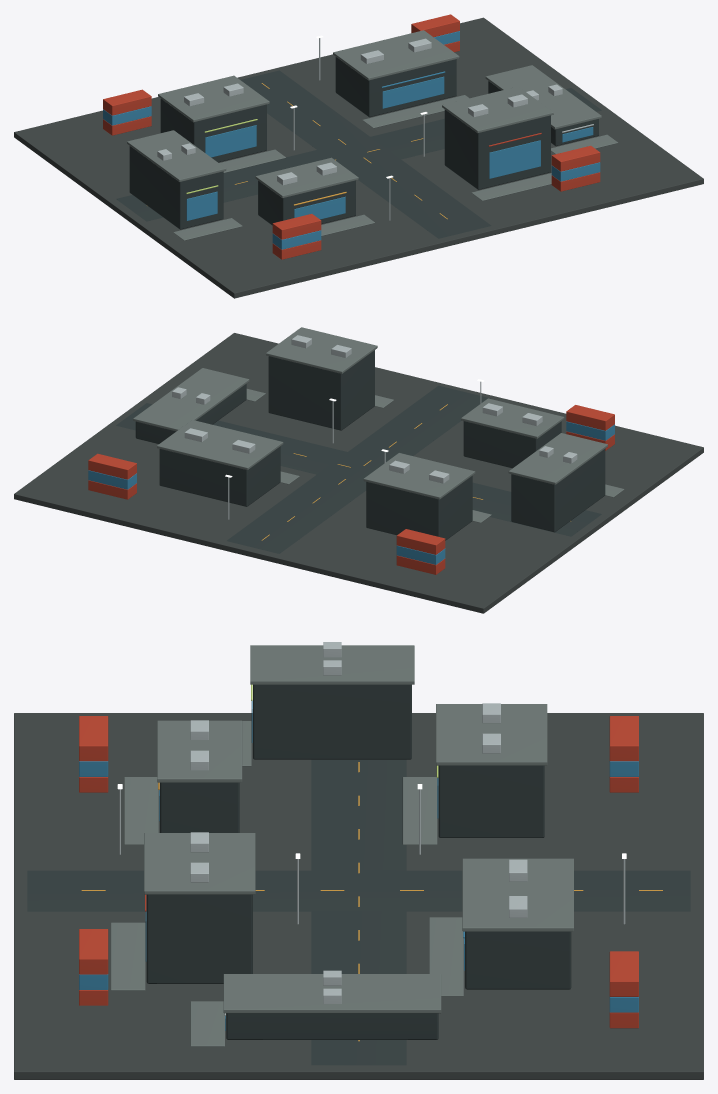
Rendered from district.glb.
3 renders of one model, top to bottom at view 1: azimuth 30°, elevation 25°; view 2: azimuth 150°, elevation 25°; view 3: azimuth 270°, elevation 25°, orthographic. The views are drawn at different scales.
Parts seen in each view (by area): view 1: District ground, North south arterial, Building dyno, East west arterial, Building showroom, Building parts, Roof parts, Building workshop, Roof track, Roof workshop, Roof dyno, Roof showroom (+24 smaller); view 2: District ground, North south arterial, Building dyno, Building workshop, Building showroom, Building parts, East west arterial, Roof track, Roof parts, Building paint, Roof workshop, Roof dyno (+11 smaller); view 3: District ground, East west arterial, North south arterial, Building showroom, Building dyno, Roof track, Building workshop, Roof parts, Building parts, Roof dyno, Roof workshop, Roof showroom (+12 smaller).
Part boxes in pixels (bbox=[...]): District ground: bbox=[14, 17, 703, 298]; North south arterial: bbox=[240, 70, 491, 238]; Building dyno: bbox=[444, 109, 550, 189]; East west arterial: bbox=[116, 88, 601, 221]; Building showroom: bbox=[129, 146, 223, 229]; Building parts: bbox=[335, 57, 456, 117]; Roof parts: bbox=[333, 30, 459, 80]; Building workshop: bbox=[160, 99, 266, 162]; Roof track: bbox=[485, 65, 601, 129]; Roof workshop: bbox=[158, 75, 269, 122]; Roof dyno: bbox=[442, 86, 553, 133]; Roof showroom: bbox=[127, 130, 226, 181]; District ground: bbox=[14, 333, 703, 613]; North south arterial: bbox=[227, 385, 491, 553]; Building dyno: bbox=[268, 350, 374, 430]; Building workshop: bbox=[366, 476, 472, 540]; Building showroom: bbox=[511, 449, 605, 532]; Building parts: bbox=[159, 446, 280, 506]; East west arterial: bbox=[116, 403, 601, 536]; Roof track: bbox=[133, 368, 249, 431]; Roof parts: bbox=[157, 420, 283, 470]; Building paint: bbox=[463, 421, 561, 468]; Roof workshop: bbox=[363, 453, 475, 499]; Roof dyno: bbox=[266, 327, 377, 373]; District ground: bbox=[14, 713, 703, 1079]; East west arterial: bbox=[311, 759, 406, 1065]; North south arterial: bbox=[27, 870, 690, 911]; Building showroom: bbox=[253, 684, 411, 759]; Building dyno: bbox=[146, 894, 252, 983]; Roof track: bbox=[223, 974, 441, 1013]; Building workshop: bbox=[438, 765, 544, 837]; Roof parts: bbox=[462, 858, 573, 931]; Building parts: bbox=[465, 931, 571, 989]; Roof dyno: bbox=[144, 833, 255, 894]; Roof workshop: bbox=[436, 704, 547, 765]; Roof showroom: bbox=[250, 645, 414, 684].
Size of the model in its own units: 32 by 4.78 by 26.
